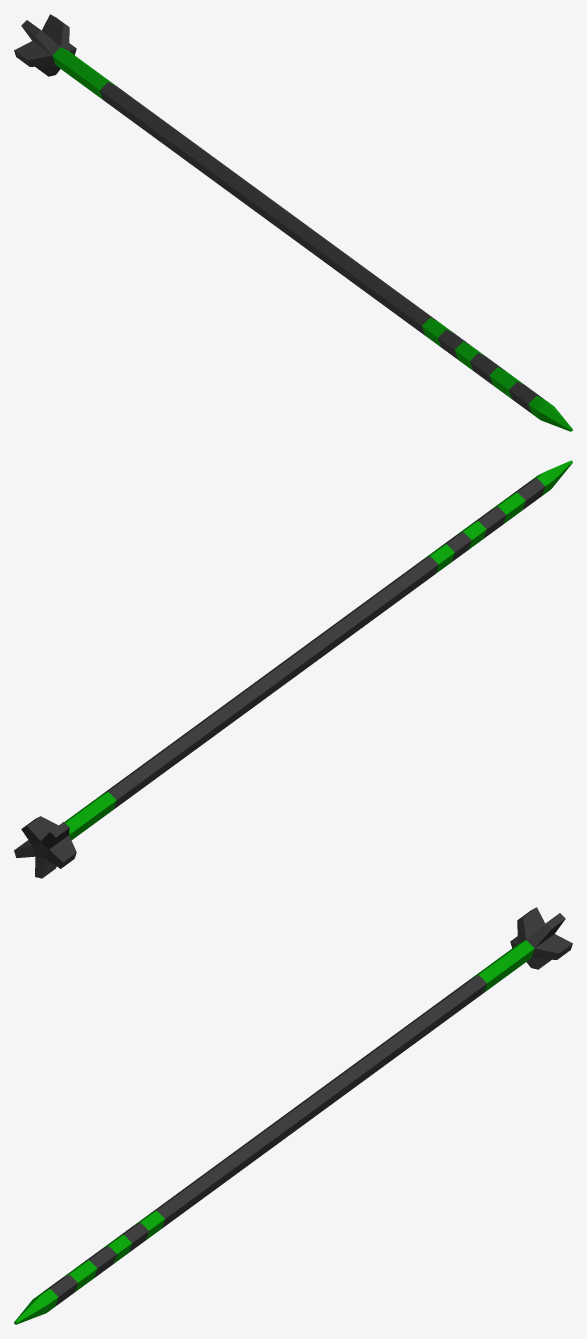
File: ArcherArrow.fbx
3 renders of one model, top to bottom at view 1: azimuth 30°, elevation 25°; view 2: azimuth 150°, elevation 25°; view 3: azimuth 330°, elevation 25°, orthographic.
Visible parts, largest first — view 1: Cylinder; view 2: Cylinder; view 3: Cylinder.
Boxes of the visible parts, left/top/right/bottom form: Cylinder: left=14, top=14, right=572, bottom=431; Cylinder: left=14, top=460, right=572, bottom=878; Cylinder: left=14, top=907, right=572, bottom=1324.
Size of the model in its own units: 33.62 by 31.98 by 633.
